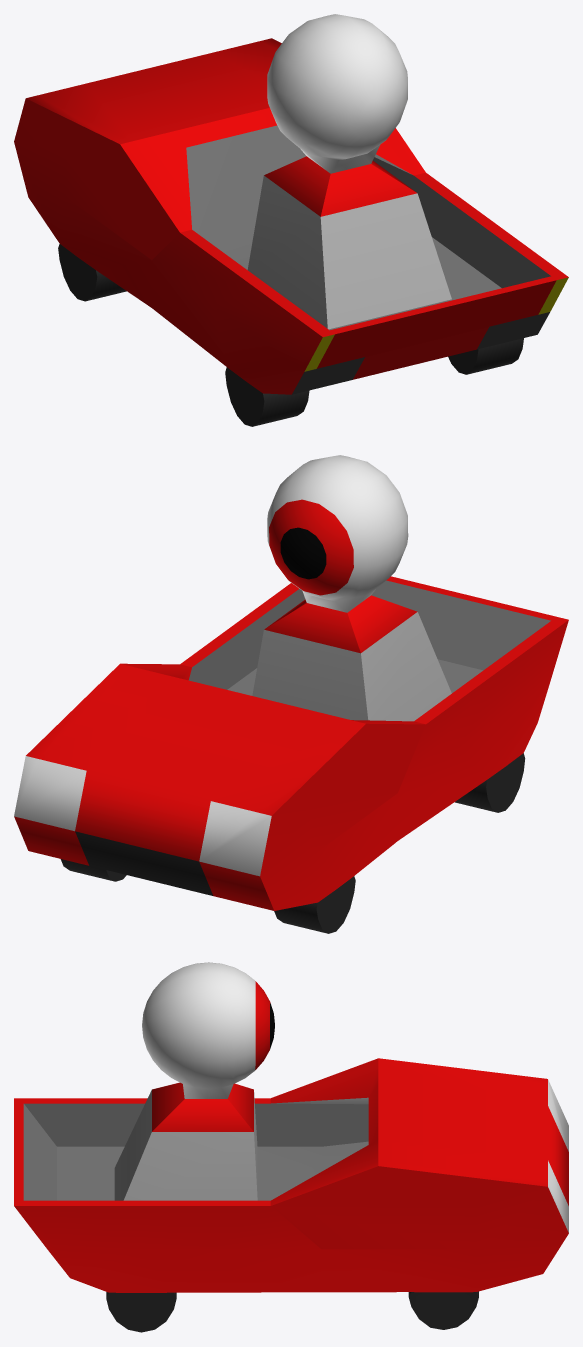
The model's file is WarExplorerRed.fbx.
3 renders of one model, top to bottom at view 1: azimuth 30°, elevation 25°; view 2: azimuth 150°, elevation 25°; view 3: azimuth 270°, elevation 25°, orthographic. The views are drawn at different scales.
Visible parts, largest first — view 1: pSphere2; view 2: pSphere2; view 3: pSphere2.
Part boxes in pixels (left/top/right/bottom): pSphere2: left=14, top=14, right=568, bottom=426; pSphere2: left=14, top=455, right=568, bottom=933; pSphere2: left=14, top=962, right=568, bottom=1332.
Size of the model in its own units: 2.1 by 2.64 by 4.31.
